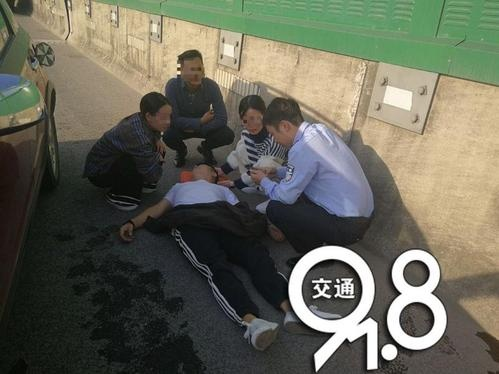falling: (119, 147, 335, 354)
